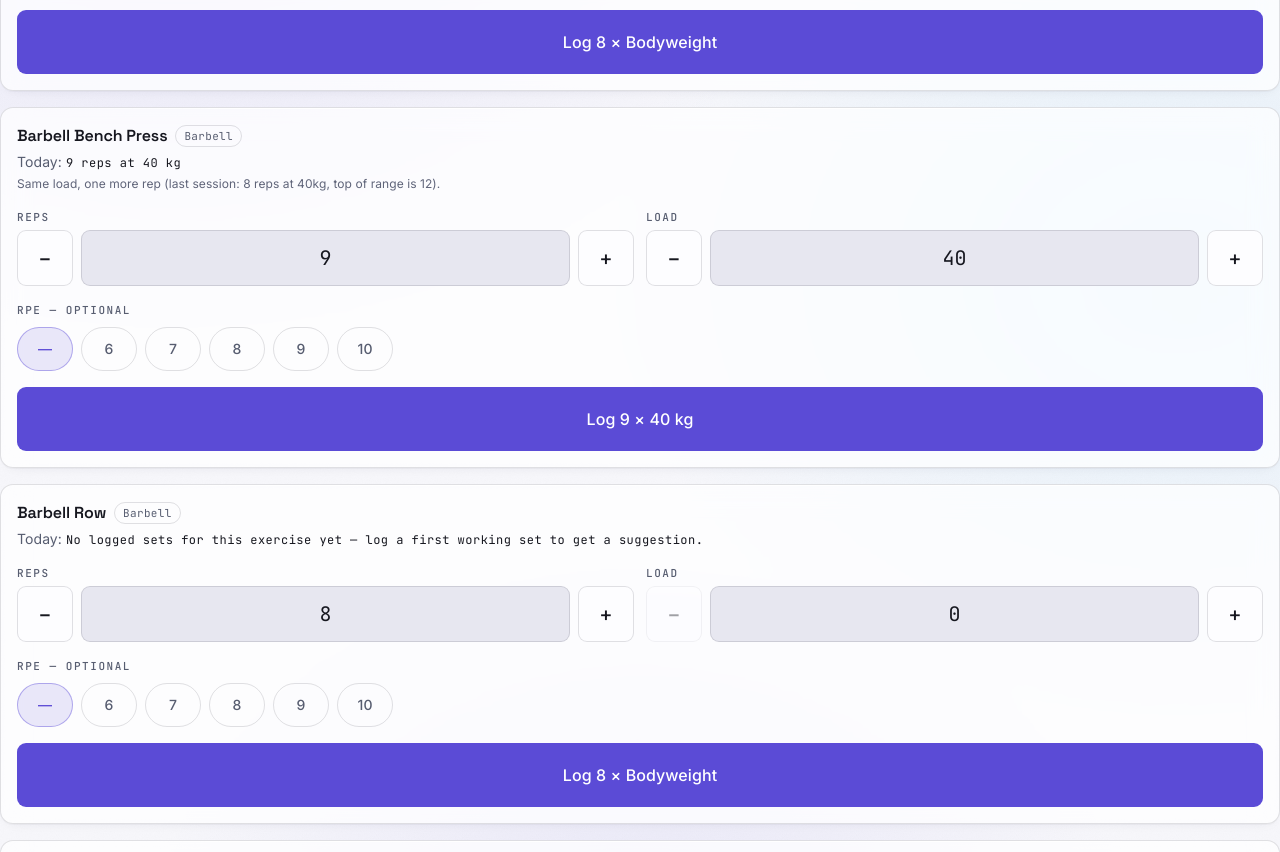
Scenario: SessionBoard — logging a set › takes the set back off the screen when the write fails, and says so
The image size is (1280, 852).
(page scrolled)
Click the button "Log 9 × 40 kg": [640, 419] box [17,387,1263,451]
(page scrolled)
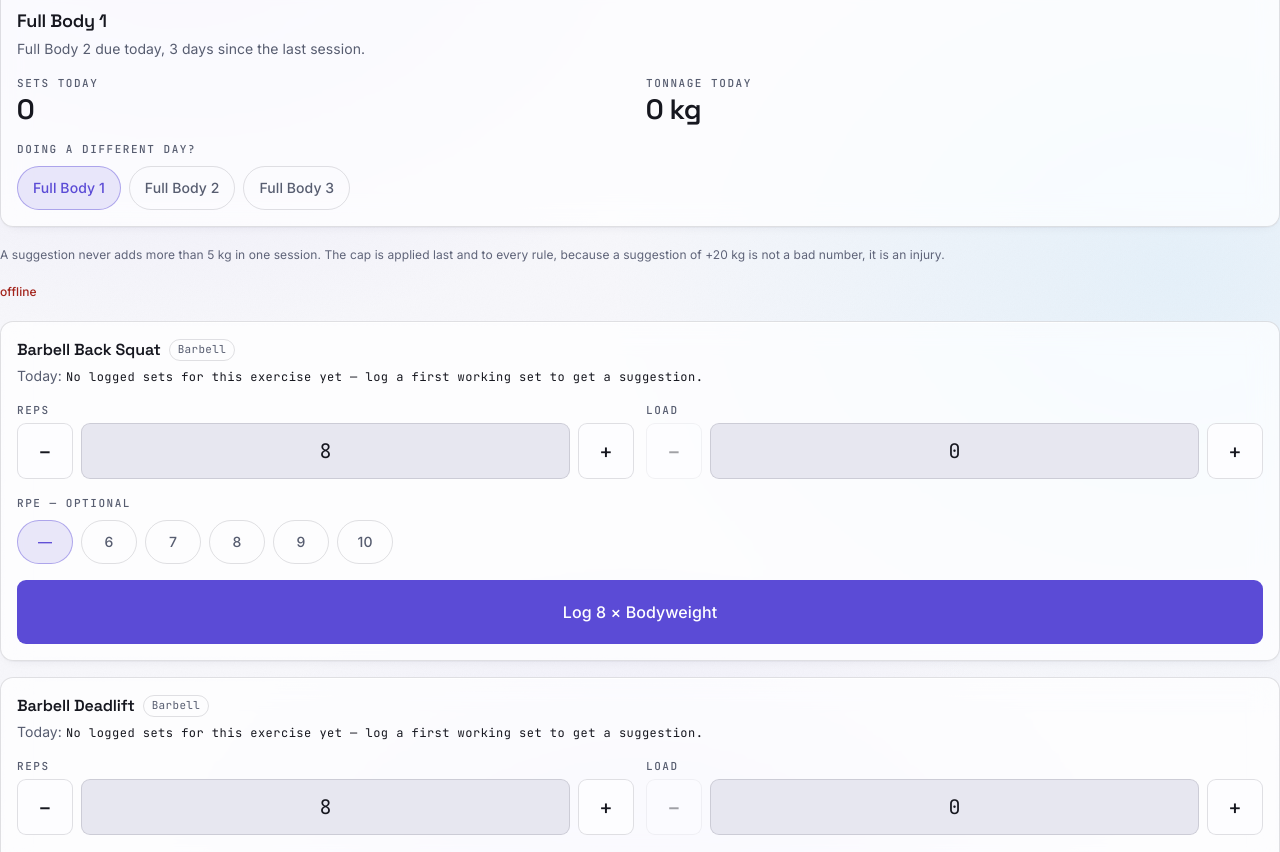
expect the message with test id "train-error" reads "offline": met, box [0,284,37,299]
